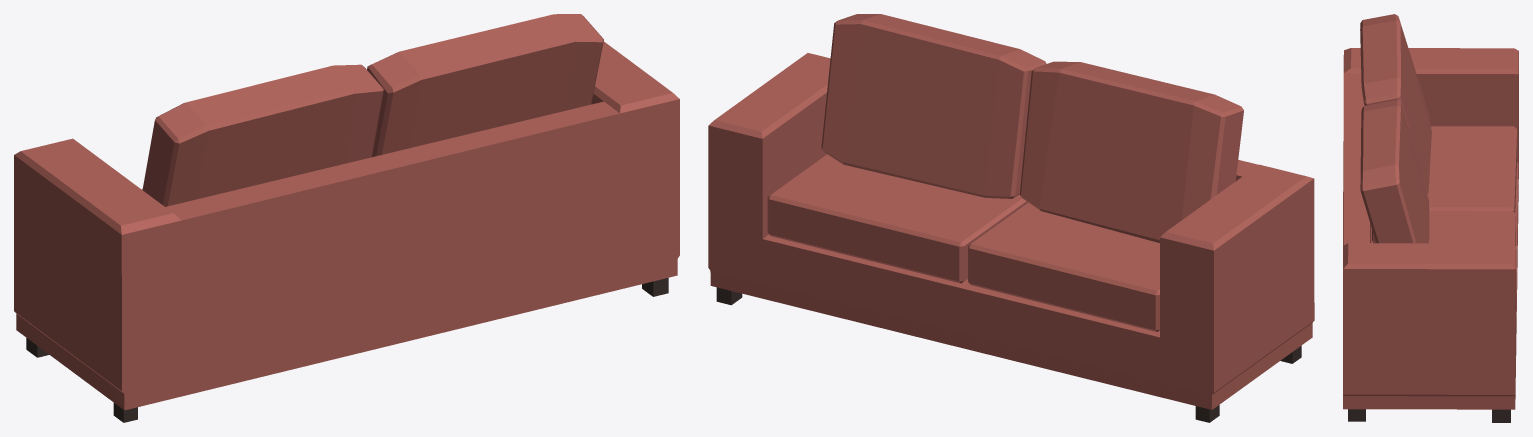
File: sofa.fbx
3 renders of one model, left to right at view 1: azimuth 30°, elevation 25°; view 2: azimuth 150°, elevation 25°; view 3: azimuth 270°, elevation 25°, orthographic. The views are drawn at different scales.
Parts seen in each view (by area): view 1: sofa; view 2: sofa; view 3: sofa.
Boxes of the visible parts, <box> form: sofa: <box>14,14,679,422</box>; sofa: <box>708,14,1314,422</box>; sofa: <box>1343,14,1518,422</box>.
Size of the model in its own units: 3.9 by 1.32 by 1.86.
